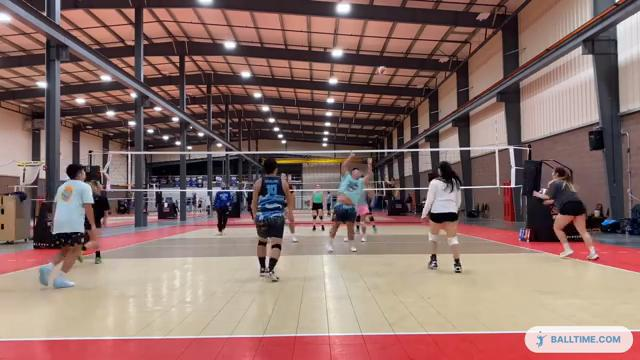Player: (39, 164, 97, 287), (534, 167, 598, 259), (252, 158, 293, 280), (422, 161, 461, 272), (86, 180, 110, 263), (356, 192, 376, 241), (214, 184, 232, 235), (311, 185, 324, 230), (282, 173, 294, 210)
Set: (324, 147, 372, 254)
ball: (378, 65, 386, 76)
